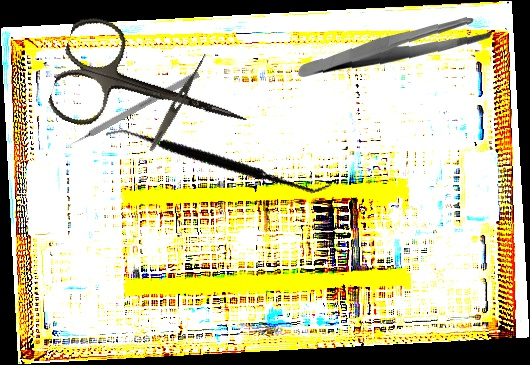Dressing Forceps: (297, 11, 493, 84), (146, 50, 210, 154)
Hook Surgical: (63, 70, 201, 151)
Iris Scissors: (44, 10, 263, 174)
Spatula Surgical: (104, 74, 332, 244)
